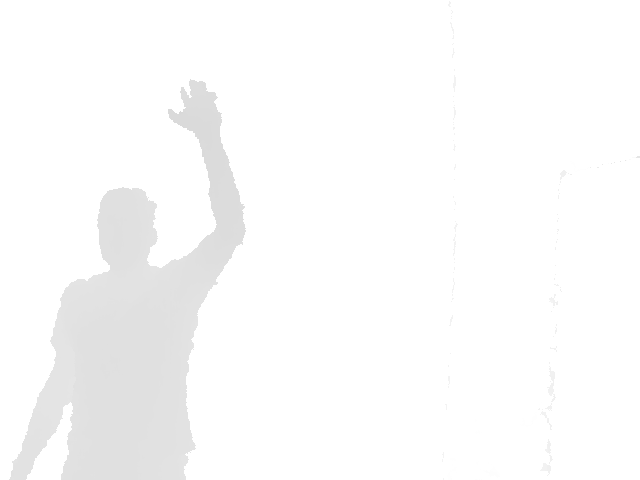hand: (166, 78, 224, 134)
head: (97, 187, 159, 268)
person: (8, 79, 246, 480)
